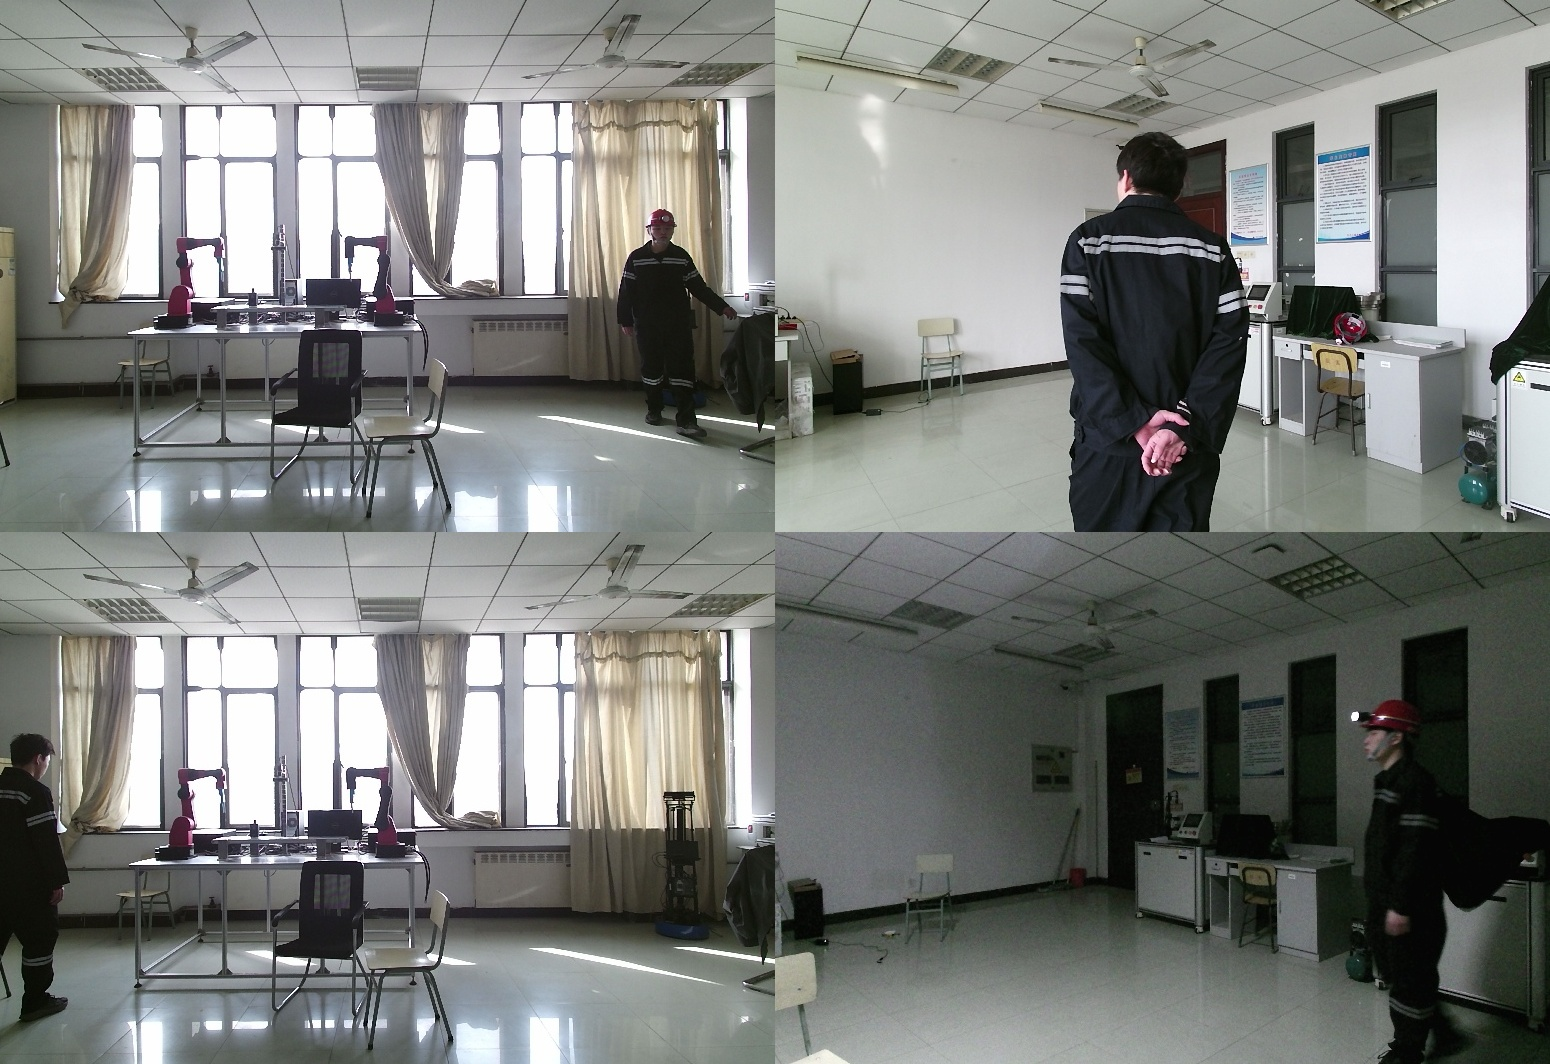person: (1063, 132, 1269, 532), (1359, 697, 1470, 1061), (620, 209, 725, 433), (2, 734, 75, 1030)
